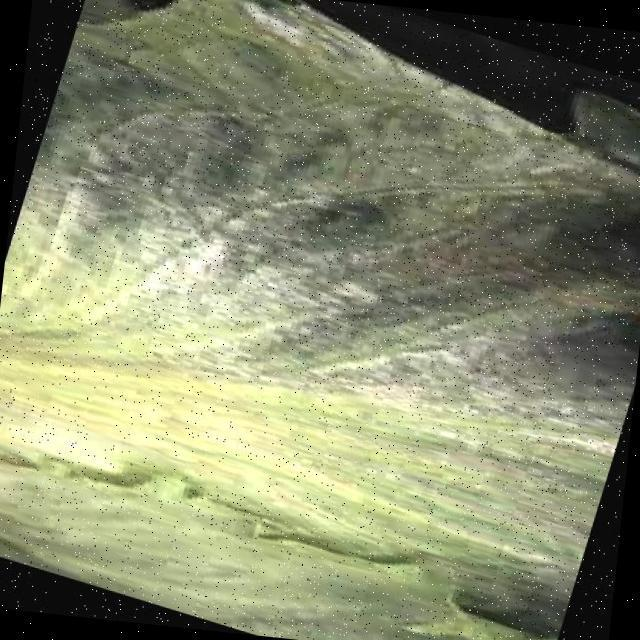Powdery_Mildew: (0, 110, 640, 590)
